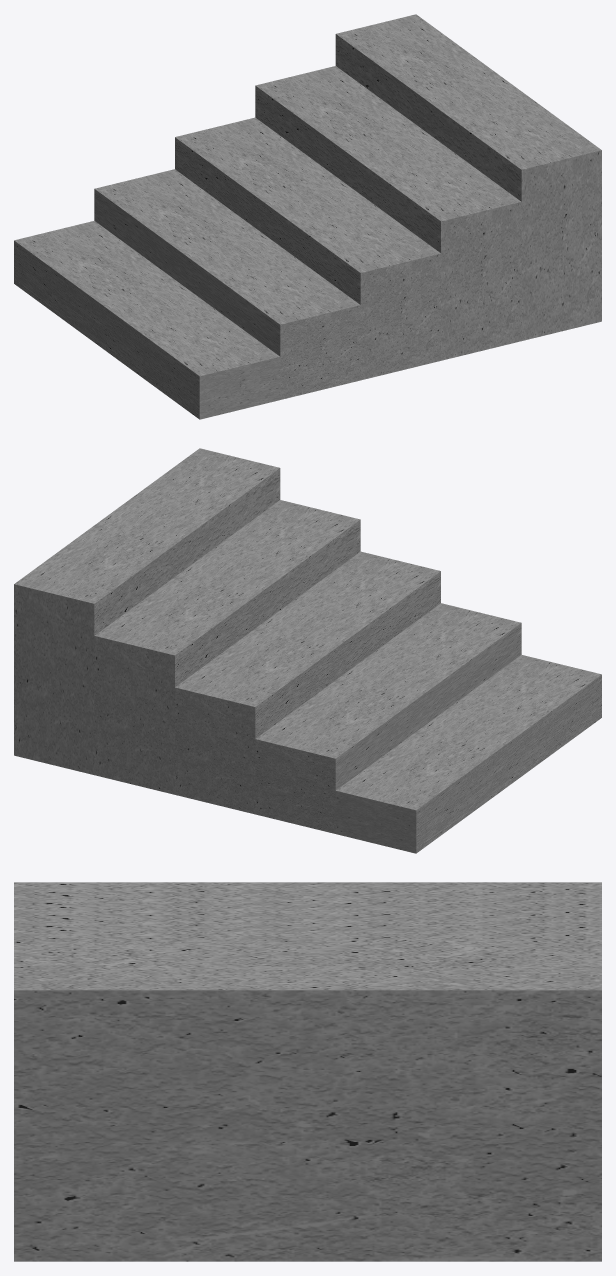
The model's file is Lab_Stair.fbx.
3 views of the same model, one above another, from view 1: azimuth 30°, elevation 25°; view 2: azimuth 150°, elevation 25°; view 3: azimuth 270°, elevation 25° (orthographic). The views are drawn at different scales.
Parts seen in each view (by area): view 1: Stair1; view 2: Stair1; view 3: Stair1.
Boxes of the visible parts, left/top/right/bottom form: Stair1: left=14, top=14, right=601, bottom=419; Stair1: left=14, top=448, right=601, bottom=853; Stair1: left=14, top=882, right=601, bottom=1261.
Size of the model in its own units: 2.5 by 1.02 by 2.
